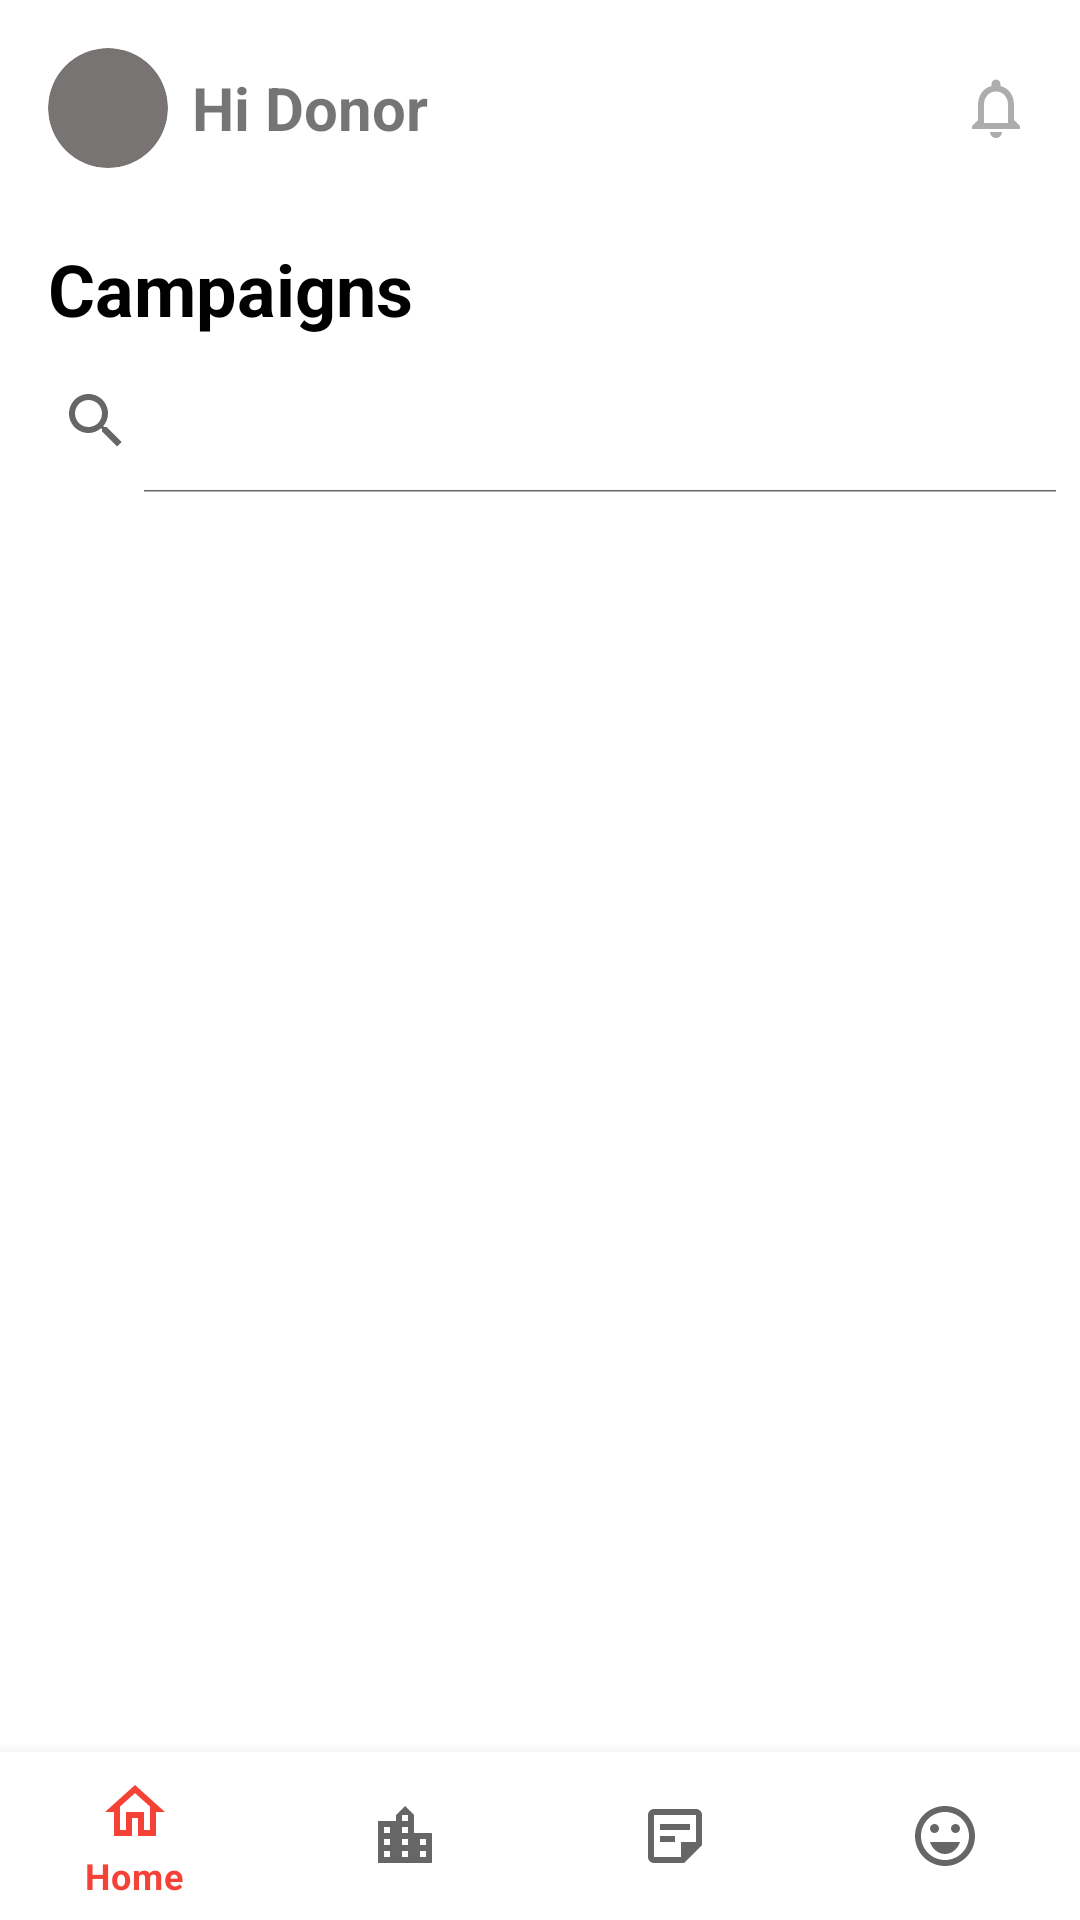

Icons on this 1080 x 1920 Android screen, each with its box as box=[x1, y1, x2, y2]:
Notification Icon: box=[972, 79, 1020, 138]
